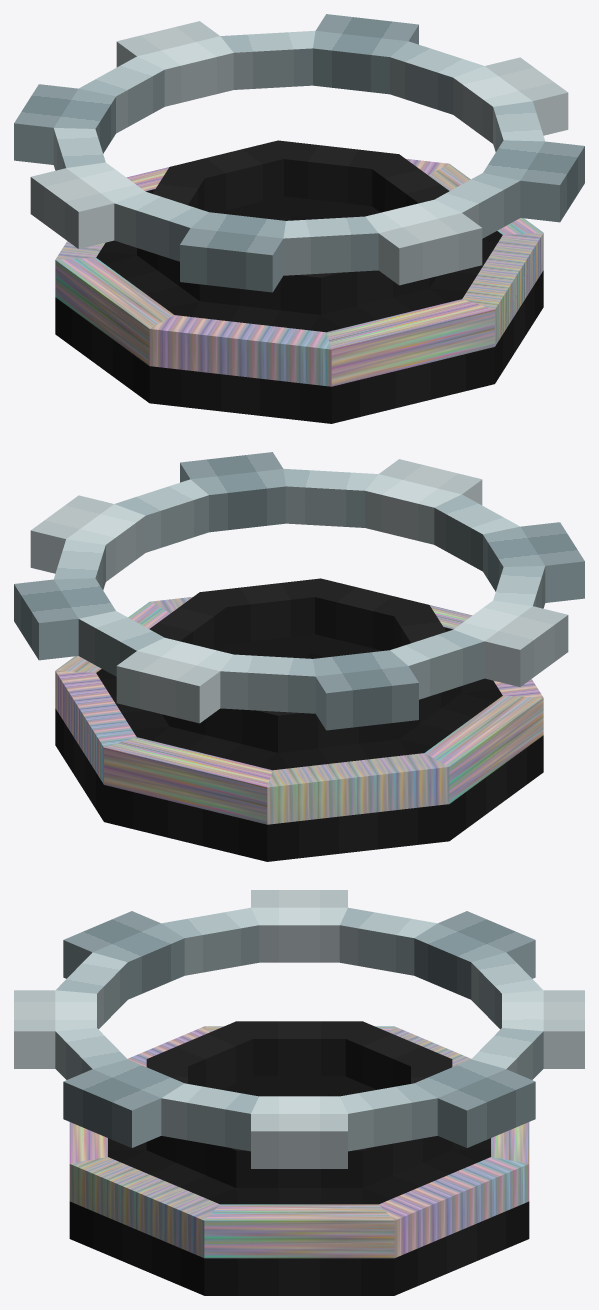
The model's file is lodestar_base.obj.
The picture shows the model from 3 angles, top to bottom: view 1: azimuth 30°, elevation 25°; view 2: azimuth 150°, elevation 25°; view 3: azimuth 270°, elevation 25°; orthographic projection.
Parts seen in each view (by area): view 1: BASE_Cylinder; view 2: BASE_Cylinder; view 3: BASE_Cylinder.
Part boxes in pixels (x1,y1,x2,y2): BASE_Cylinder: (14, 14, 584, 423); BASE_Cylinder: (14, 452, 584, 861); BASE_Cylinder: (14, 890, 584, 1295).
Bounding box in the file's own units: 0.8606 × 0.3125 × 0.8606.
